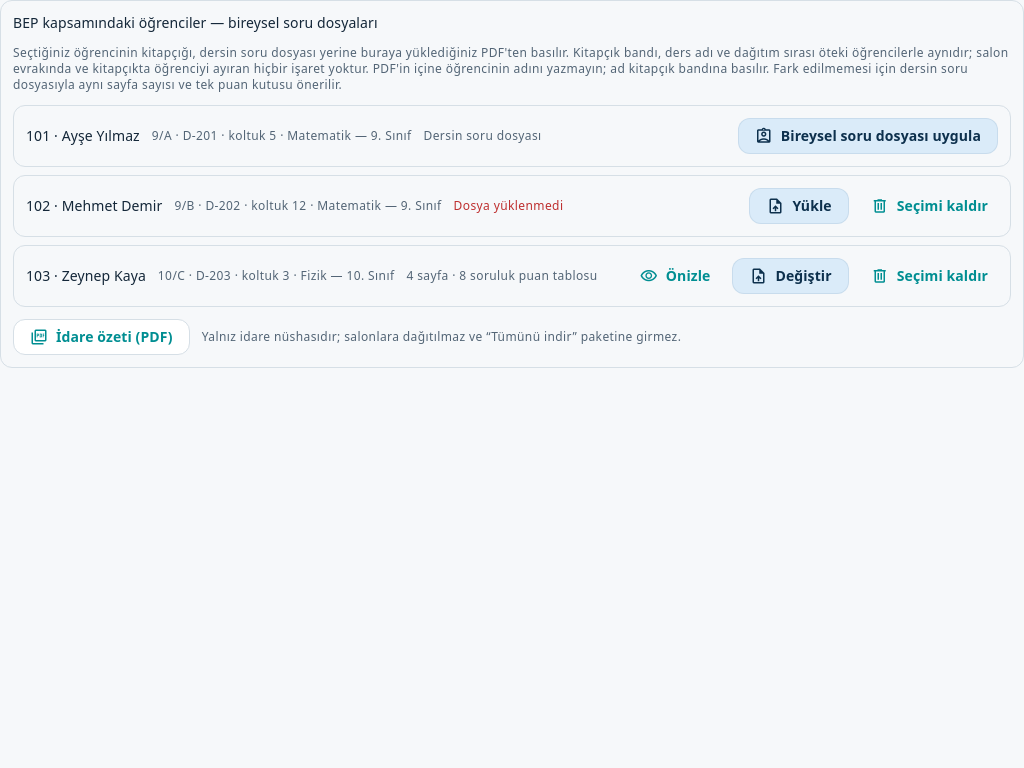
Test: BireyselSorularBolumu — işlemler › seçim reddedilirse backend gerekçesi bildirilir
The width and height of the screenshot is (1024, 768).
Click the button "Bireysel soru dosyası uygula".
click(868, 136)  # box [738,118,998,154]
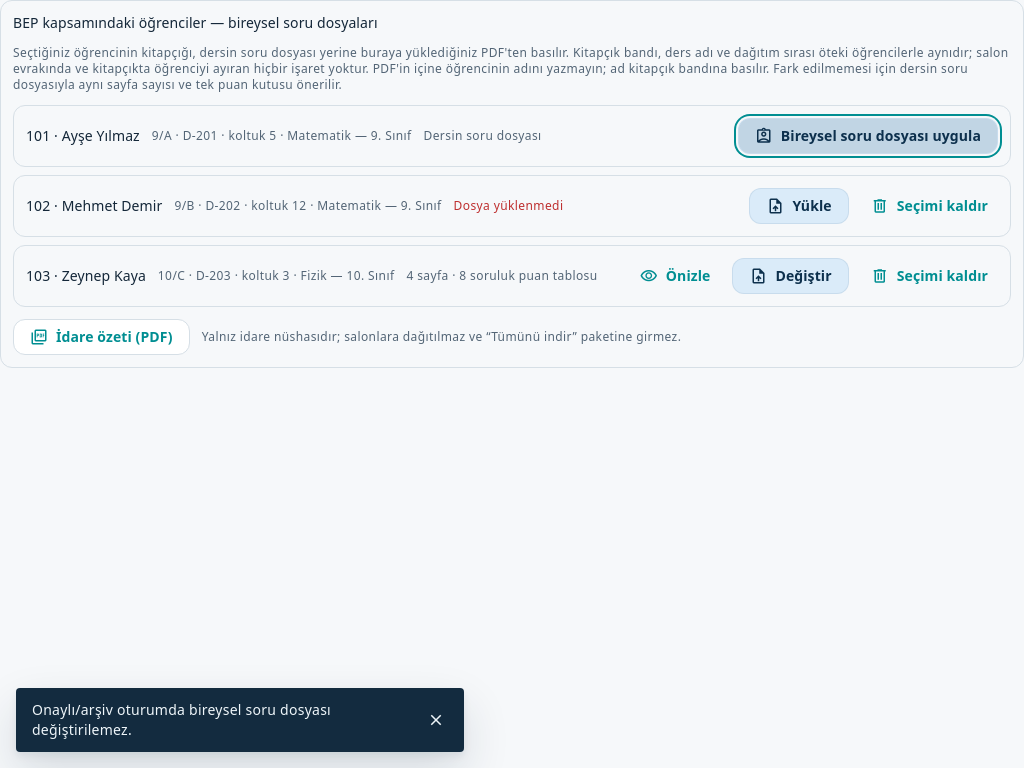
expect the text "Onaylı/arşiv oturumda bireysel soru dosyası değiştirilemez." is shown: met, box [32,700,331,739]
